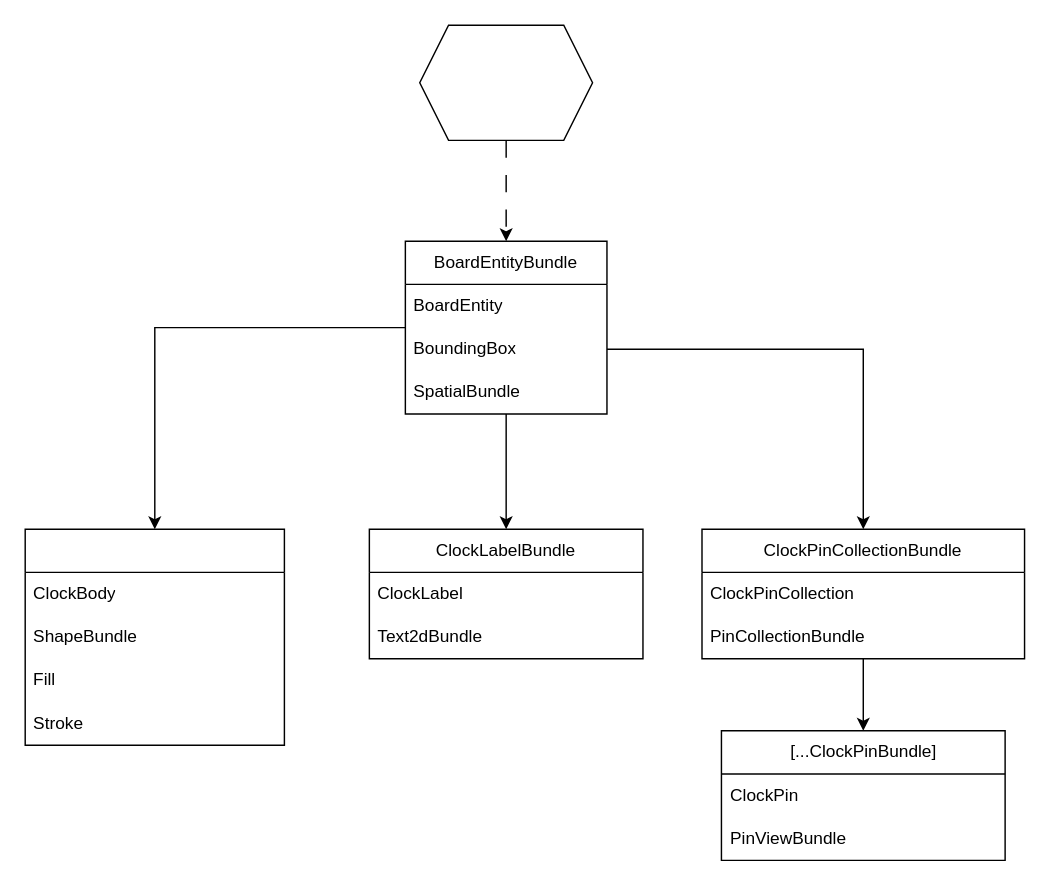
Image size: 1050x886. Some labels were removed from this diagram. The box of each missing label's shape, as (x1, y1, x2, y2) in pixels:
ClockBodyBundle: (24, 528, 284, 745)
Model Clock: (418, 24, 593, 140)
